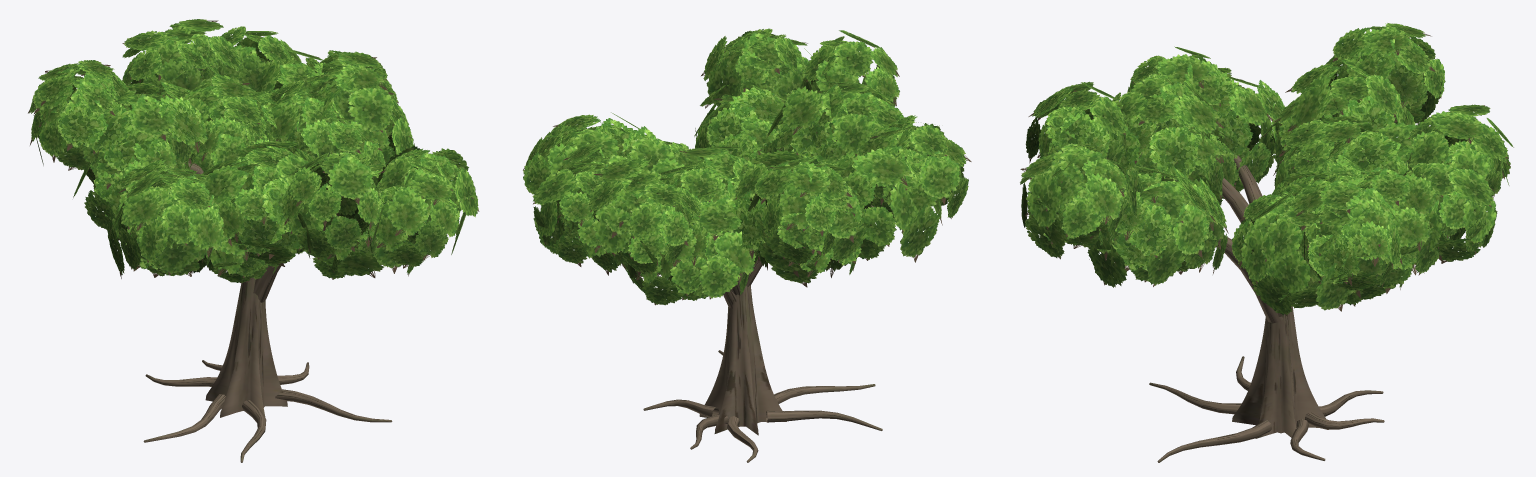
3 views of the same model, side by side, from view 1: azimuth 30°, elevation 25°; view 2: azimuth 150°, elevation 25°; view 3: azimuth 270°, elevation 25° (orthographic). The views are drawn at different scales.
Visible parts, largest first — view 1: BigTree-forest-f; view 2: BigTree-forest-f; view 3: BigTree-forest-f.
Part boxes in pixels (x1,y1,x2,y2): BigTree-forest-f: (28,19,479,462); BigTree-forest-f: (523,28,971,462); BigTree-forest-f: (1020,23,1513,462).
Bounding box in the file's own units: 24.78 × 21 × 28.36.
Materials: 1 (1 with a texture image).
